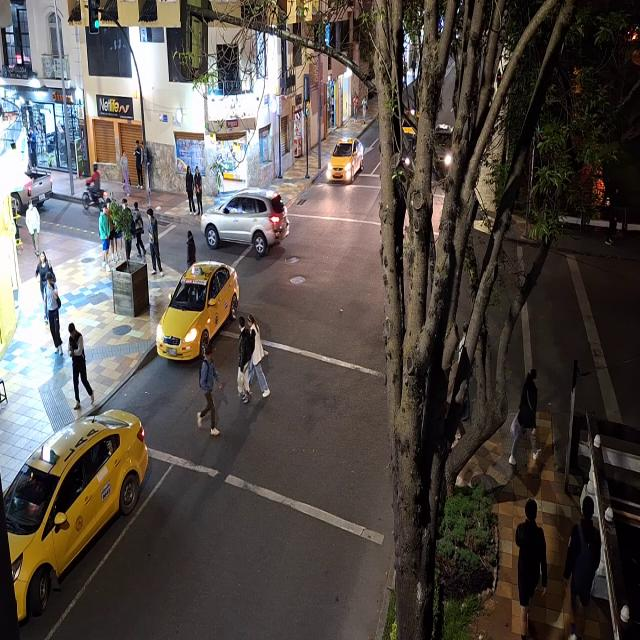MOTORCYCLE: (83, 189, 112, 214)
SED: (0, 410, 152, 617), (156, 262, 238, 358), (327, 134, 366, 187)
SUV: (200, 190, 287, 250)
